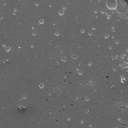corrosion: (105, 1, 119, 11), (119, 76, 128, 85), (75, 66, 83, 76), (3, 44, 12, 52), (18, 103, 27, 111), (37, 81, 45, 89), (53, 30, 61, 37), (70, 53, 78, 60), (60, 55, 67, 63), (38, 18, 45, 25), (58, 9, 65, 16), (103, 33, 110, 40), (87, 60, 93, 68), (79, 28, 85, 34), (87, 32, 93, 38), (106, 14, 112, 20), (93, 8, 99, 14), (114, 39, 120, 45), (21, 94, 27, 100), (30, 42, 35, 49), (108, 44, 113, 50), (34, 2, 40, 7), (112, 67, 117, 73), (31, 32, 37, 37), (91, 26, 97, 31), (13, 7, 18, 12), (80, 119, 85, 124)
